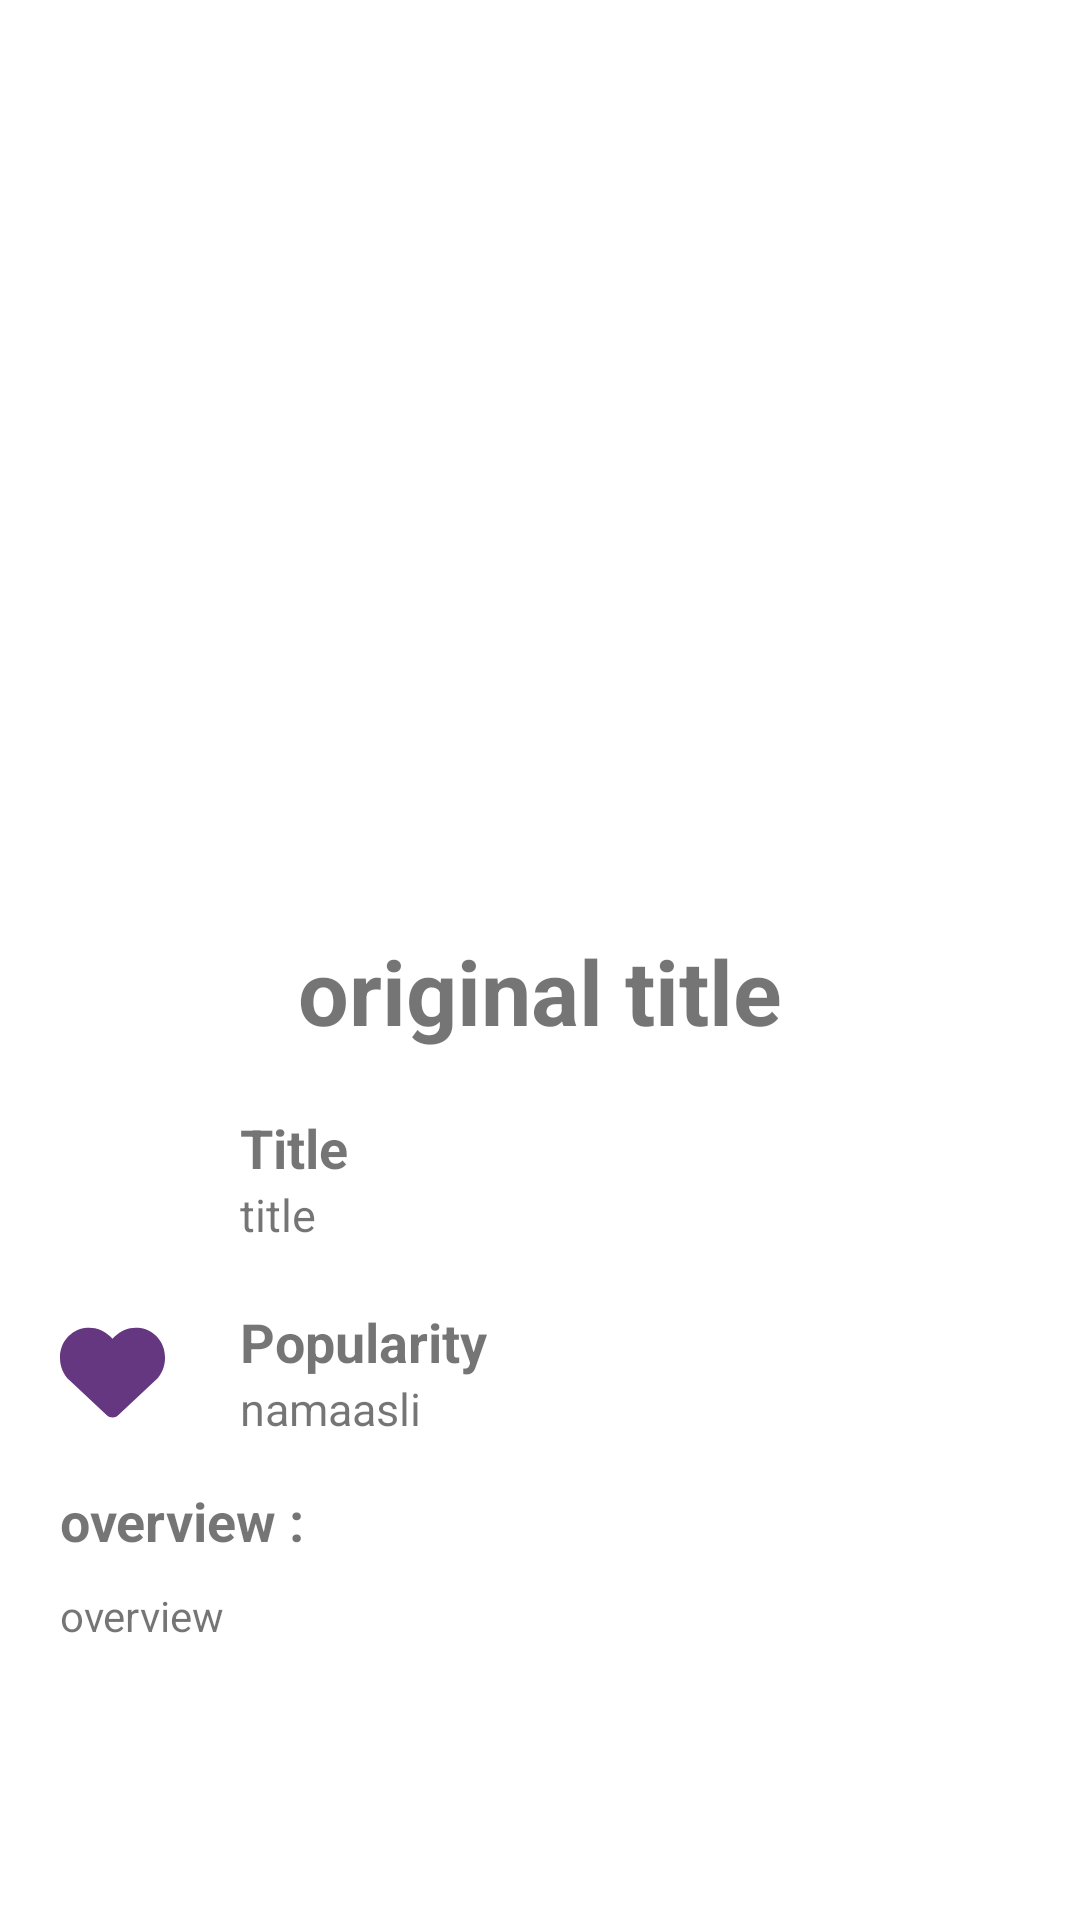

Screen size 1080 × 1920. Icon name, then its box in pixels as {"x1": x1, "y1": y1, "x2": x2, "y2": y2}:
heart: {"x1": 60, "y1": 1327, "x2": 165, "y2": 1418}
